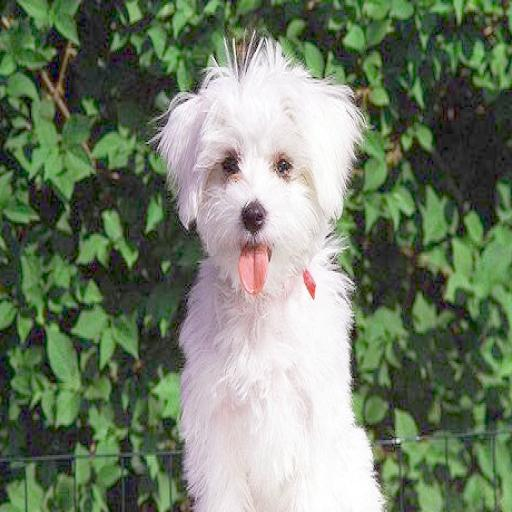dog_face: (166, 57, 352, 308)
